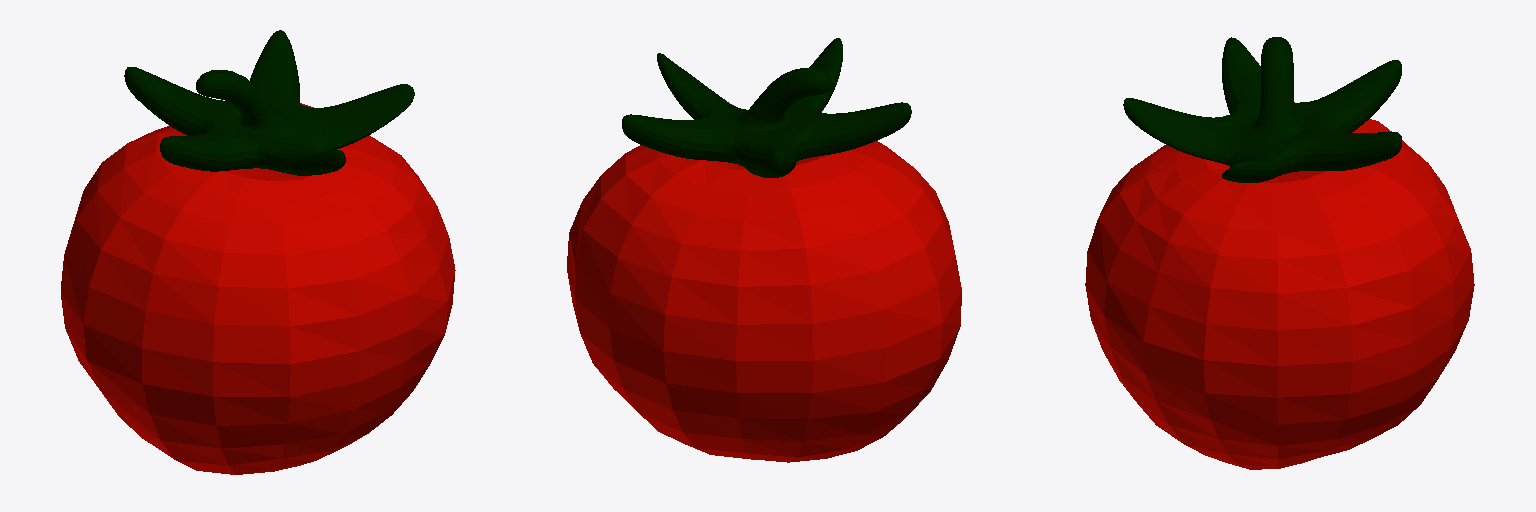
Rendered from tomat.obj.
The picture shows the model from 3 angles: view 1: azimuth 30°, elevation 25°; view 2: azimuth 150°, elevation 25°; view 3: azimuth 270°, elevation 25°; orthographic projection.
Parts seen in each view (by area): view 1: Sphere; view 2: Sphere; view 3: Sphere.
Boxes of the visible parts, box(x1,y1,x2,y2) form: Sphere: box(61, 30, 455, 474); Sphere: box(567, 38, 961, 462); Sphere: box(1085, 37, 1474, 469).
Bounding box in the file's own units: 0.1481 × 0.1594 × 0.1435.